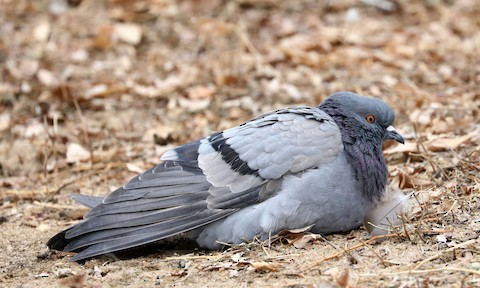pigeon: (41, 90, 406, 267)
